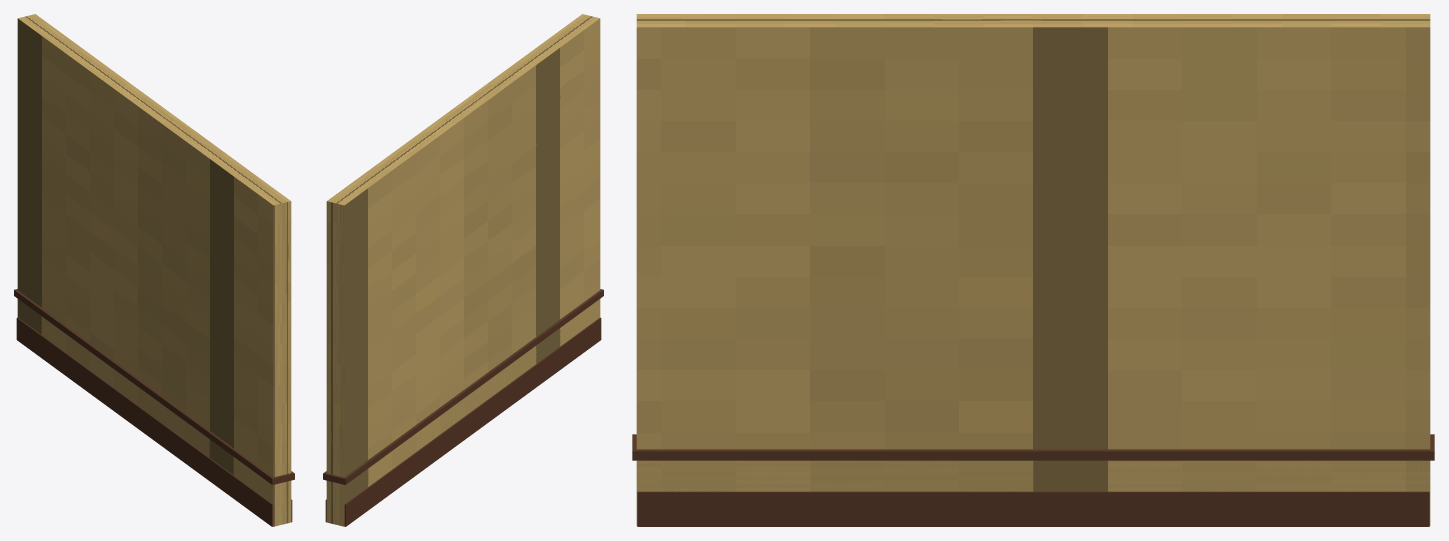
File: back2.glb
3 views of the same model, side by side, from view 1: azimuth 30°, elevation 25°; view 2: azimuth 150°, elevation 25°; view 3: azimuth 270°, elevation 25° (orthographic). The views are drawn at different scales.
Visible parts, largest first — view 1: Box1, Box2, Box3, Box4; view 2: Box1, Box2, Box4, Box3; view 3: Box1, Box2, Box3, Box4.
Part boxes in pixels (<box>): Box1: <box>17,14,291,526</box>; Box2: <box>16,317,292,526</box>; Box3: <box>19,302,291,526</box>; Box4: <box>14,289,294,484</box>; Box1: <box>326,14,600,526</box>; Box2: <box>325,317,601,526</box>; Box4: <box>323,289,603,484</box>; Box3: <box>326,304,598,526</box>; Box1: <box>636,14,1430,525</box>; Box2: <box>637,491,1429,526</box>; Box3: <box>636,460,1430,524</box>; Box4: <box>632,434,1434,460</box>.
Bounding box in the file's own units: 0.19 × 2.6 × 3.79.
Materials: 2 (1 with a texture image).
